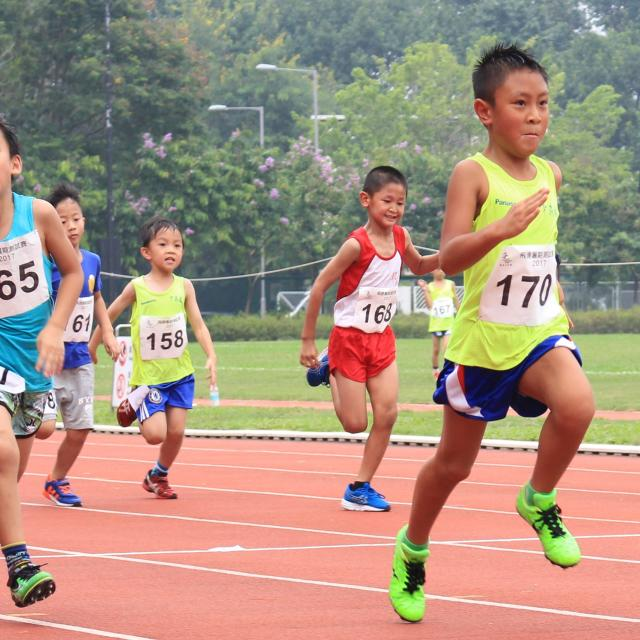Person: (389, 44, 595, 623), (300, 165, 439, 510), (0, 119, 83, 606), (86, 220, 218, 501), (33, 191, 124, 507), (415, 263, 459, 377)
